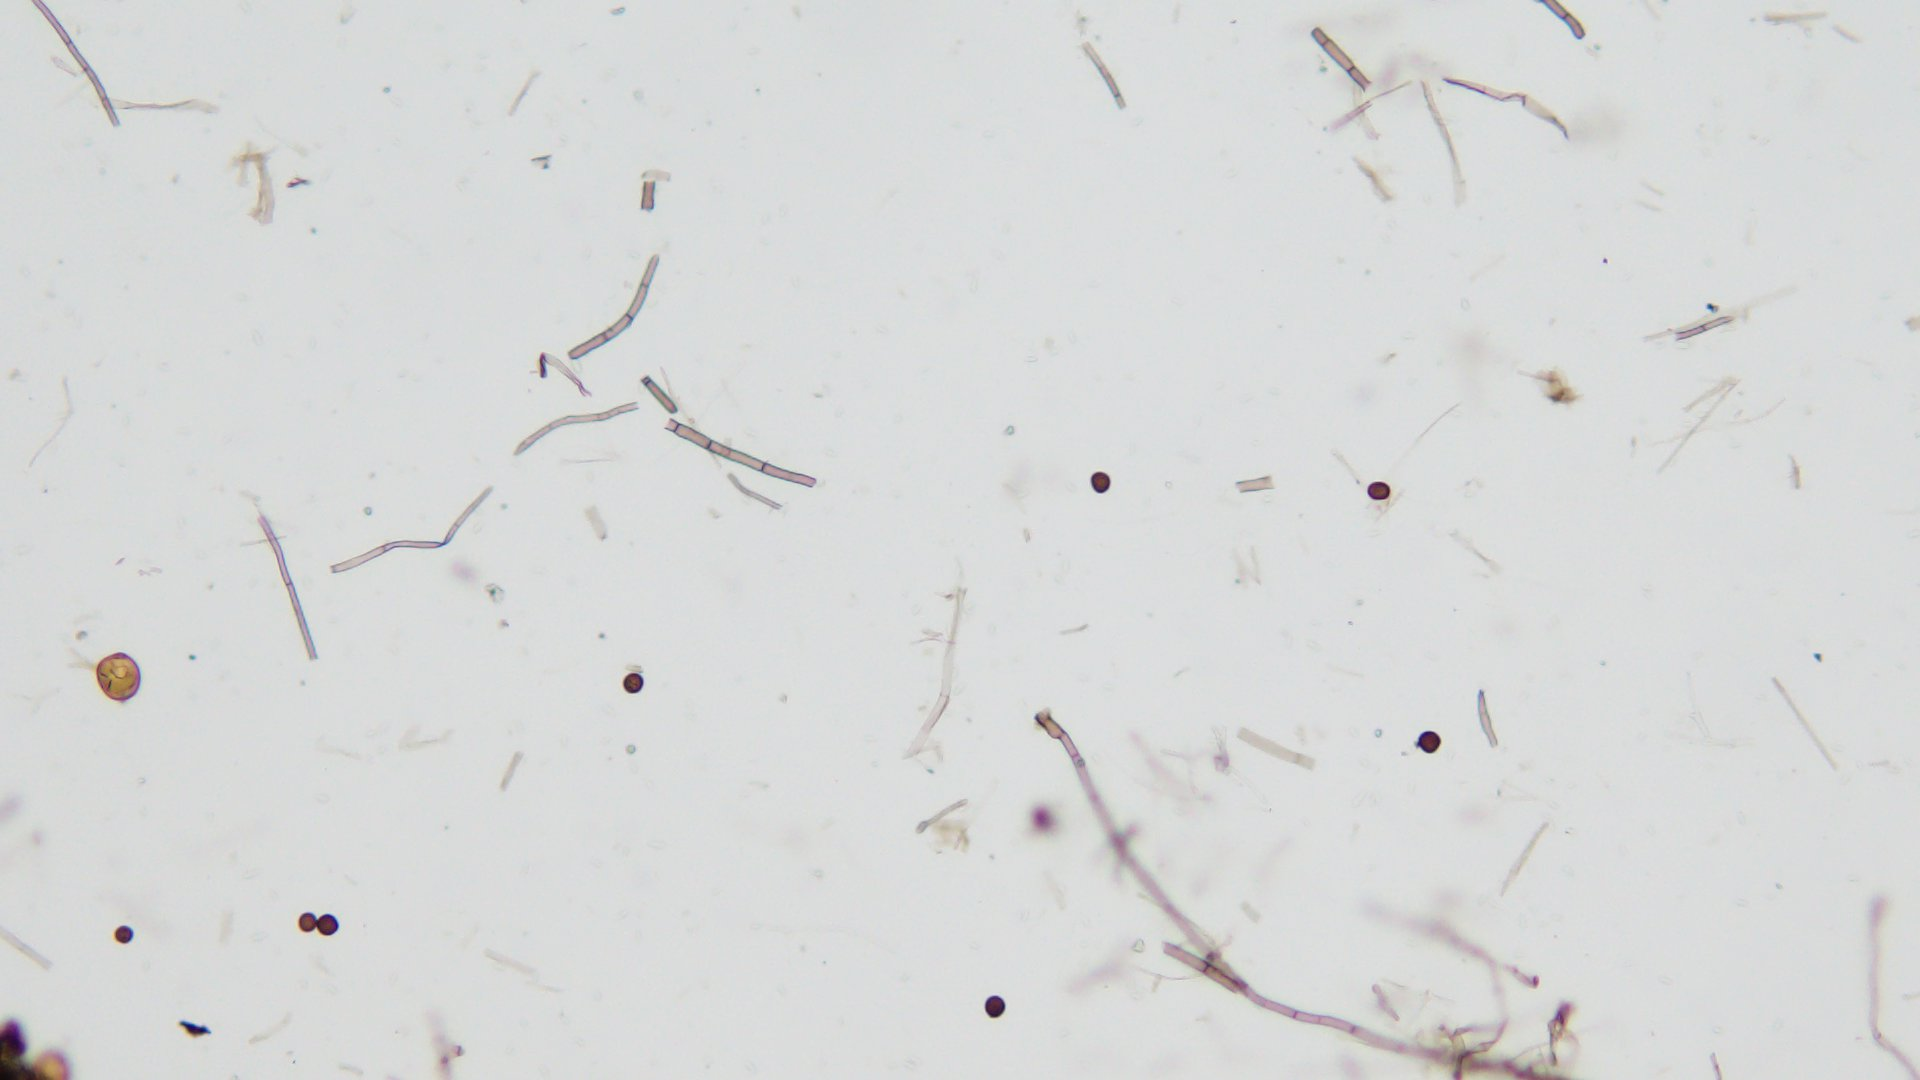shs_spore: (1415, 729, 1443, 754), (318, 913, 342, 936), (984, 996, 1006, 1019), (622, 671, 644, 692), (1091, 471, 1112, 492), (1369, 483, 1393, 501), (115, 924, 133, 944), (298, 913, 315, 932)
xb_spore: (95, 651, 142, 702)
